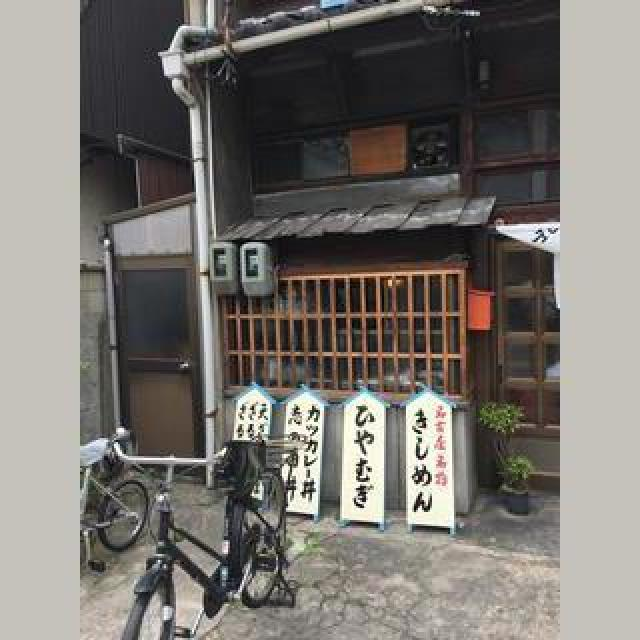Person: (108, 430, 294, 640)
